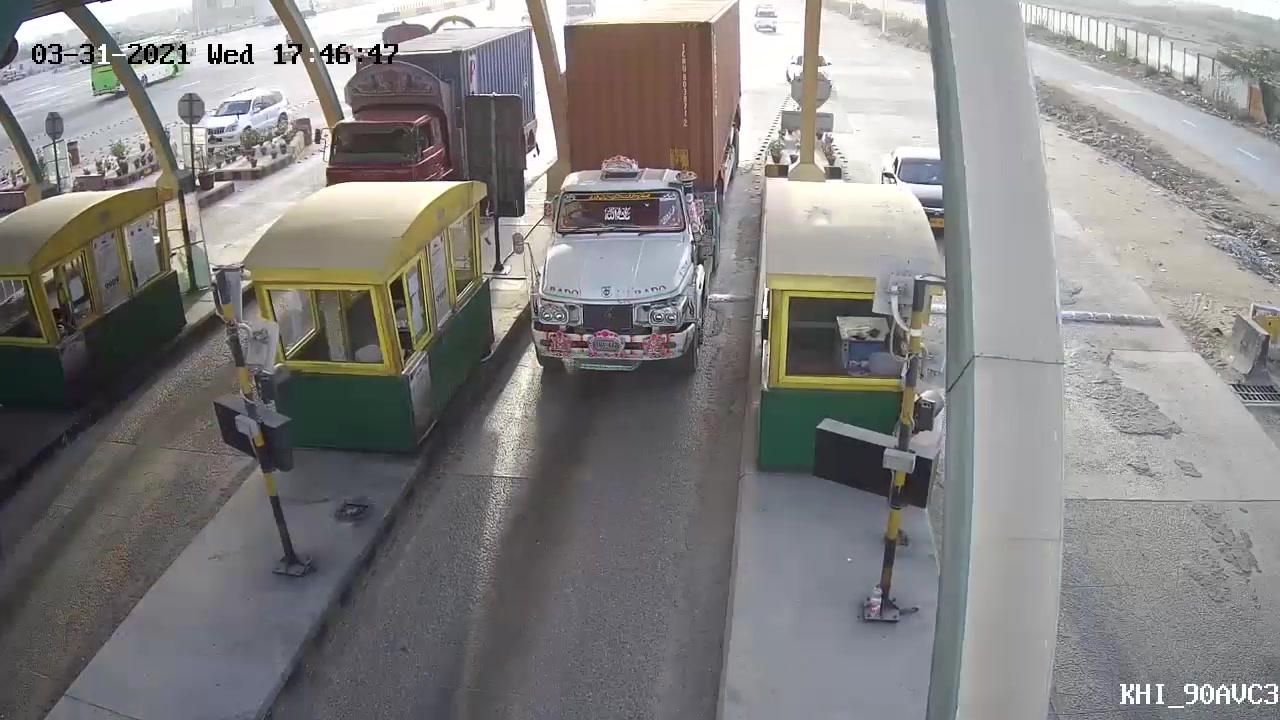F6: (516, 1, 750, 390)
